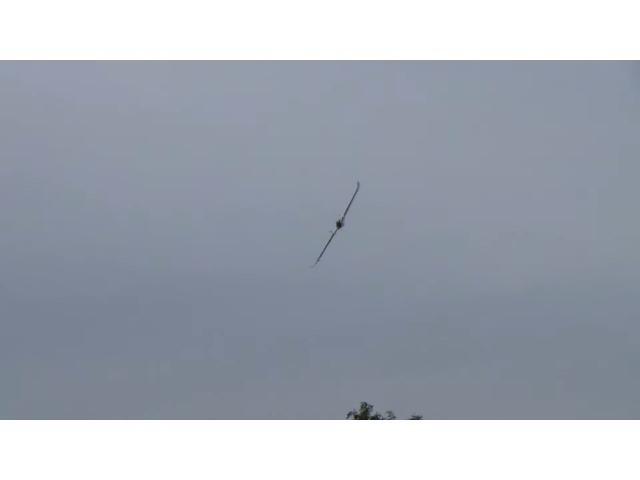Anti-Drone: (314, 182, 360, 266)
